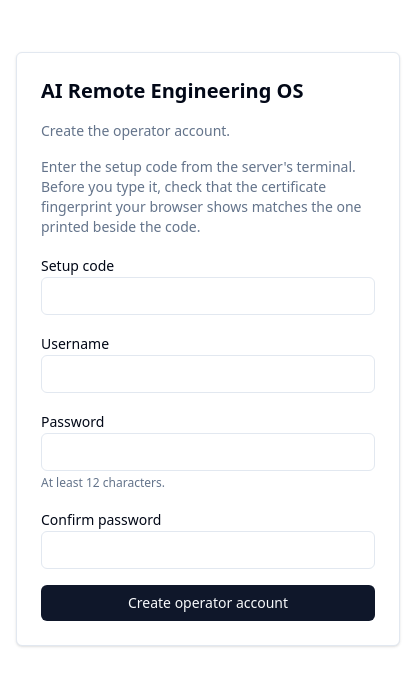
Scenario: Setup form › says plainly that setup is already complete on a 404
Type "abcde-fghjk-mnpqr-stvwx" into the field labelled "Setup code" at (208, 296), box [41,277,375,315]
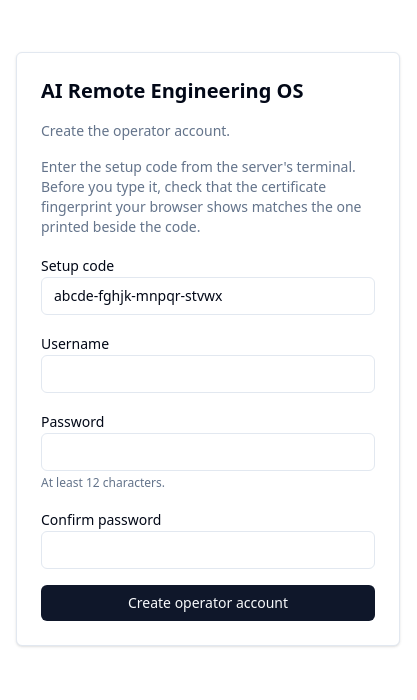
Type "admin" into the field labelled "Username" at (208, 374), box [41,355,375,393]
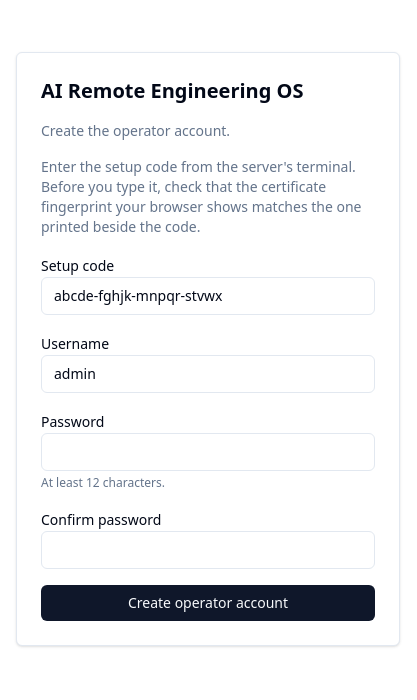
Type "correct horse battery" into the password field labelled "Password" at (208, 452), box [41,433,375,471]
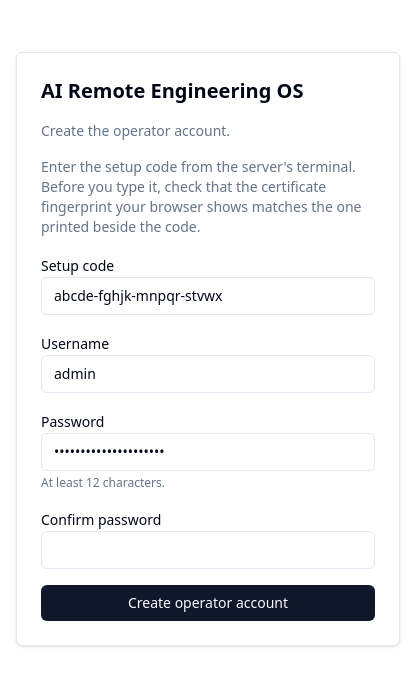
Type "correct horse battery" into the password field labelled "Confirm password" at (208, 550), box [41,531,375,569]
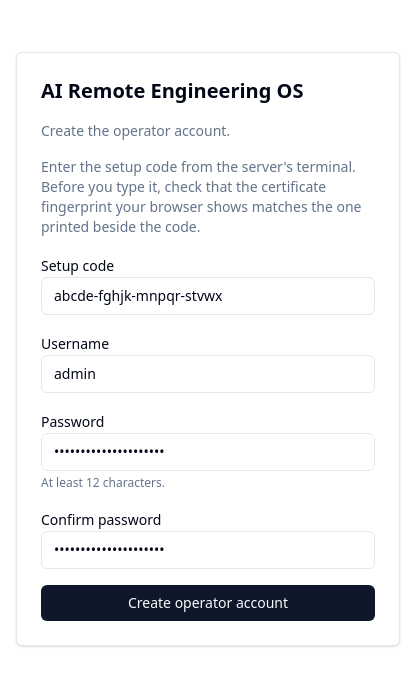
Click the button "Create operator account" at (208, 603), box [41,585,375,621]
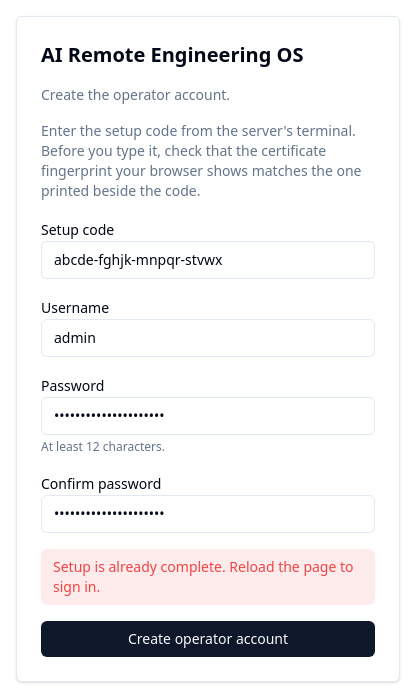
Expected: the message shows "already complete", [53,557,354,596]
